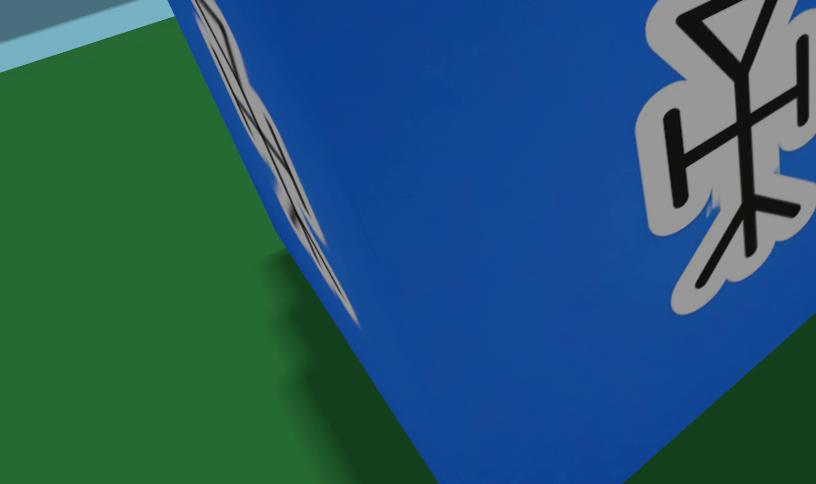KFS_REAL: (166, 0, 816, 483), (636, 0, 816, 314), (190, 0, 355, 321)
